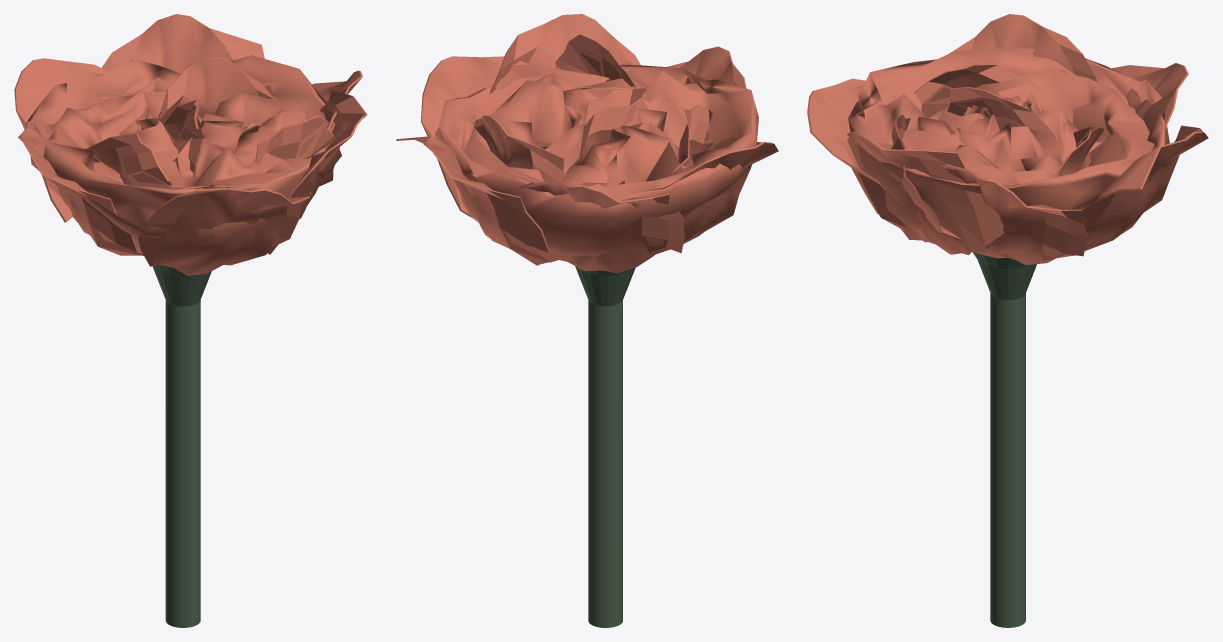
The model's file is carnation.obj.
3 renders of one model, left to right at view 1: azimuth 30°, elevation 25°; view 2: azimuth 150°, elevation 25°; view 3: azimuth 270°, elevation 25°, orthographic. The views are drawn at different scales.
Parts seen in each view (by area): view 1: carnation petals flowerCentre, stem carnation, carnation petals pCylinder3, carnation pCylinder1 petals, carnation petals pCylinder6, carnation petals pCylinder4, carnation petals pCylinder5, carnation petals pCylinder2; view 2: carnation petals flowerCentre, stem carnation, carnation pCylinder1 petals, carnation petals pCylinder6, carnation petals pCylinder2, carnation petals pCylinder5, carnation petals pCylinder4, carnation petals pCylinder3; view 3: carnation petals flowerCentre, stem carnation, carnation petals pCylinder5, carnation petals pCylinder2, carnation pCylinder1 petals, carnation petals pCylinder3, carnation petals pCylinder4, carnation petals pCylinder6.
Part boxes in pixels (left/top/right/bottom): carnation petals flowerCentre: left=27, top=55, right=341, bottom=251; stem carnation: left=152, top=265, right=211, bottom=627; carnation petals pCylinder3: left=137, top=188, right=311, bottom=275; carnation pCylinder1 petals: left=102, top=14, right=264, bottom=73; carnation petals pCylinder6: left=14, top=58, right=108, bottom=222; carnation petals pCylinder4: left=18, top=121, right=143, bottom=255; carnation petals pCylinder5: left=267, top=90, right=367, bottom=254; carnation petals pCylinder2: left=312, top=70, right=362, bottom=129; carnation petals flowerCentre: left=435, top=34, right=758, bottom=256; stem carnation: left=575, top=266, right=635, bottom=627; carnation pCylinder1 petals: left=396, top=136, right=568, bottom=265; carnation petals pCylinder6: left=519, top=182, right=684, bottom=273; carnation petals pCylinder2: left=420, top=56, right=544, bottom=218; carnation petals pCylinder5: left=490, top=14, right=640, bottom=93; carnation petals pCylinder4: left=641, top=141, right=778, bottom=258; carnation petals pCylinder3: left=666, top=46, right=746, bottom=88; carnation petals flowerCentre: left=848, top=47, right=1169, bottom=241; stem carnation: left=972, top=252, right=1036, bottom=627; carnation petals pCylinder5: left=847, top=131, right=1004, bottom=254; carnation petals pCylinder2: left=938, top=164, right=1087, bottom=265; carnation pCylinder1 petals: left=1080, top=125, right=1208, bottom=250; carnation petals pCylinder3: left=807, top=78, right=927, bottom=242; carnation petals pCylinder4: left=950, top=14, right=1097, bottom=81; carnation petals pCylinder6: left=1112, top=63, right=1188, bottom=132.
Size of the model in its own units: 2.05 by 3.09 by 2.09.
